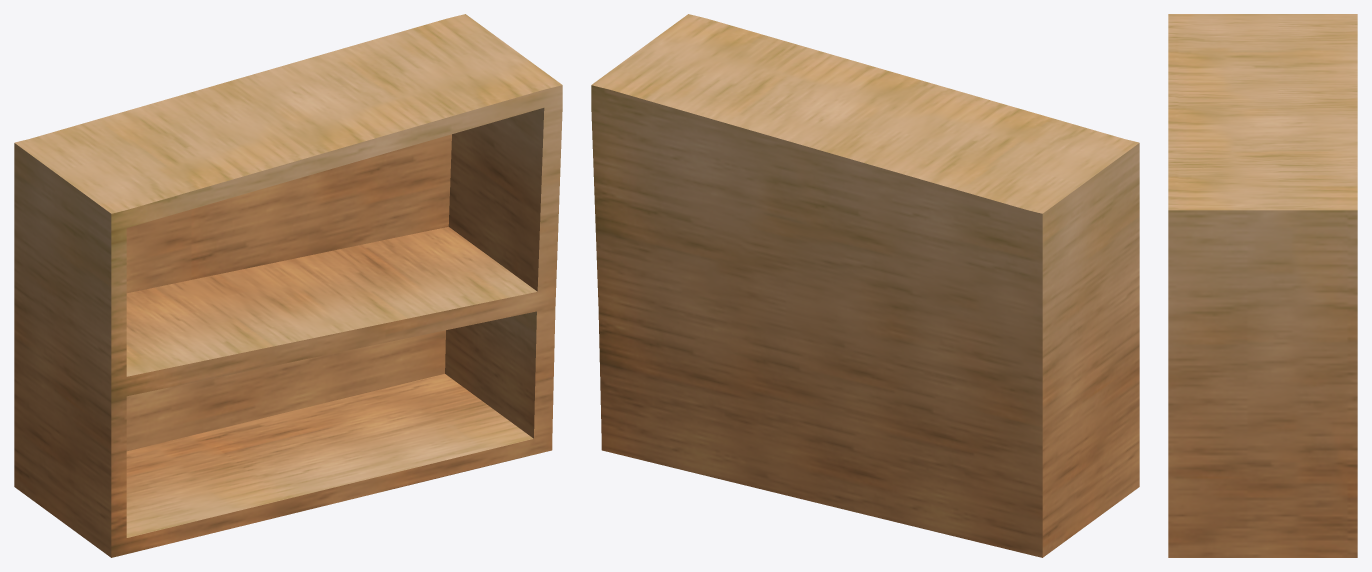
Rendered from Shelf_01_TL.FBX.
3 views of the same model, side by side, from view 1: azimuth 30°, elevation 25°; view 2: azimuth 150°, elevation 25°; view 3: azimuth 270°, elevation 25° (orthographic). The views are drawn at different scales.
Visible parts, largest first — view 1: Shelf_01; view 2: Shelf_01; view 3: Shelf_01.
Part boxes in pixels (bbox=[...]): Shelf_01: bbox=[14, 14, 562, 557]; Shelf_01: bbox=[591, 14, 1139, 557]; Shelf_01: bbox=[1168, 14, 1357, 557].
Bounding box in the file's own units: 137 × 105 × 51.06.
Materials: 1 (1 with a texture image).
